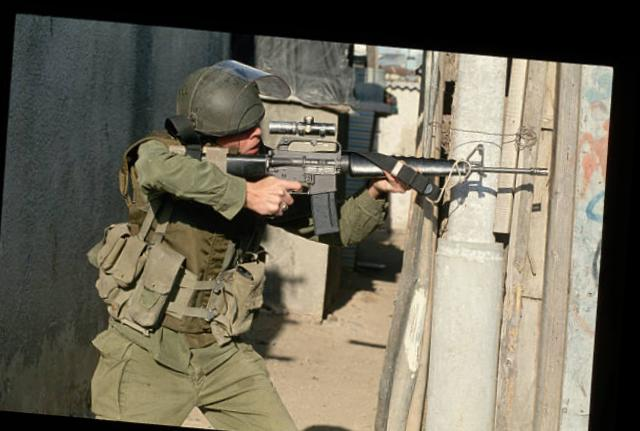other: (91, 59, 301, 425)
